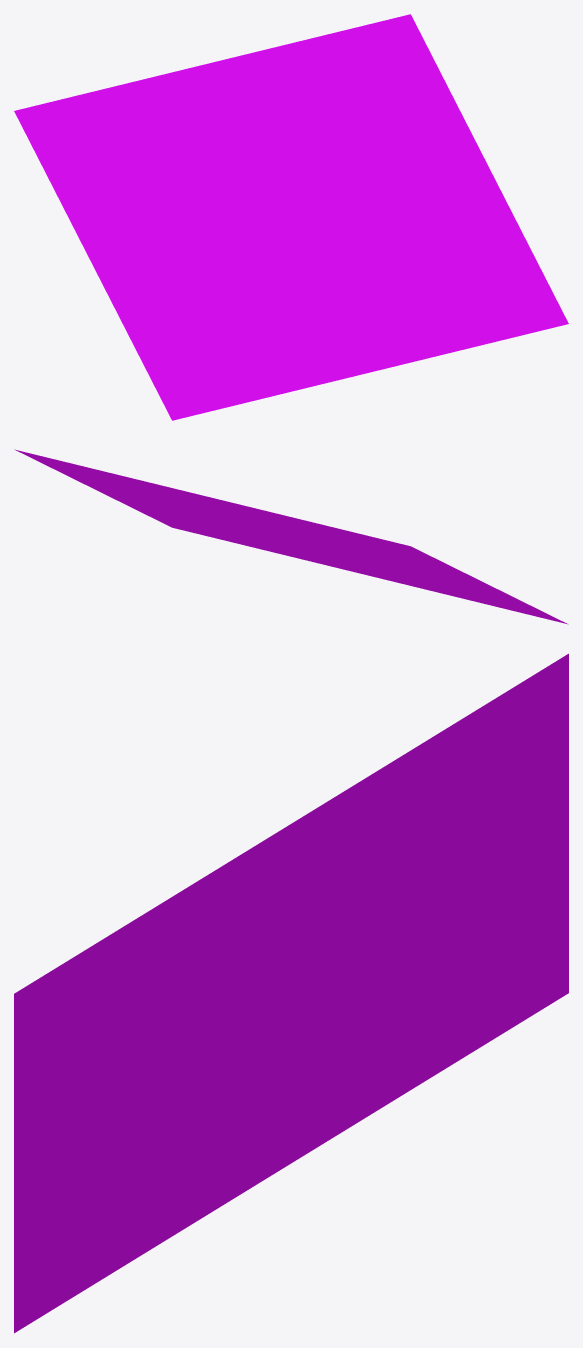
File: deco_kazari1.gltf
3 renders of one model, top to bottom at view 1: azimuth 30°, elevation 25°; view 2: azimuth 150°, elevation 25°; view 3: azimuth 270°, elevation 25°, orthographic. The views are drawn at different scales.
Parts seen in each view (by area): view 1: deco_kazari1; view 2: deco_kazari1; view 3: deco_kazari1.
Boxes of the visible parts, box(x1,y1,x2,y2) form: deco_kazari1: box(14, 14, 568, 420); deco_kazari1: box(14, 449, 568, 624); deco_kazari1: box(14, 653, 568, 1333).
Size of the model in its own units: 0.325 by 0.1519 by 0.2244.
